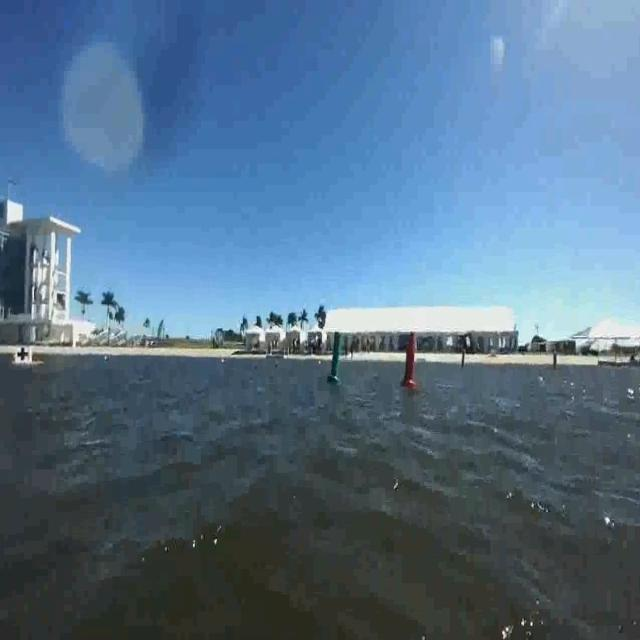green-column-buoy: (327, 330, 344, 383)
red-column-buoy: (402, 330, 420, 389)
